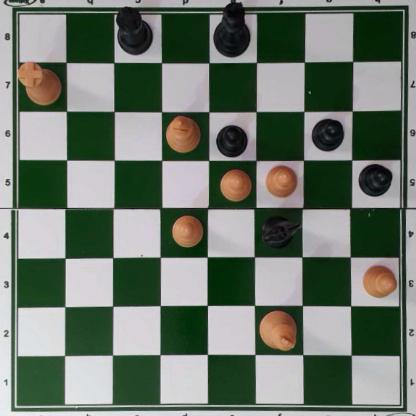black-king: (214, 0, 251, 60)
black-knight: (262, 213, 299, 249)
black-pawn: (357, 163, 392, 197), (311, 116, 345, 151), (215, 122, 248, 156)
black-rook: (113, 8, 154, 52)
white-bishop: (165, 111, 201, 154)
white-king: (258, 308, 299, 351)
white-pawn: (360, 263, 397, 299), (218, 168, 252, 202), (170, 213, 203, 248), (265, 164, 296, 198)
white-rook: (16, 63, 61, 103)
